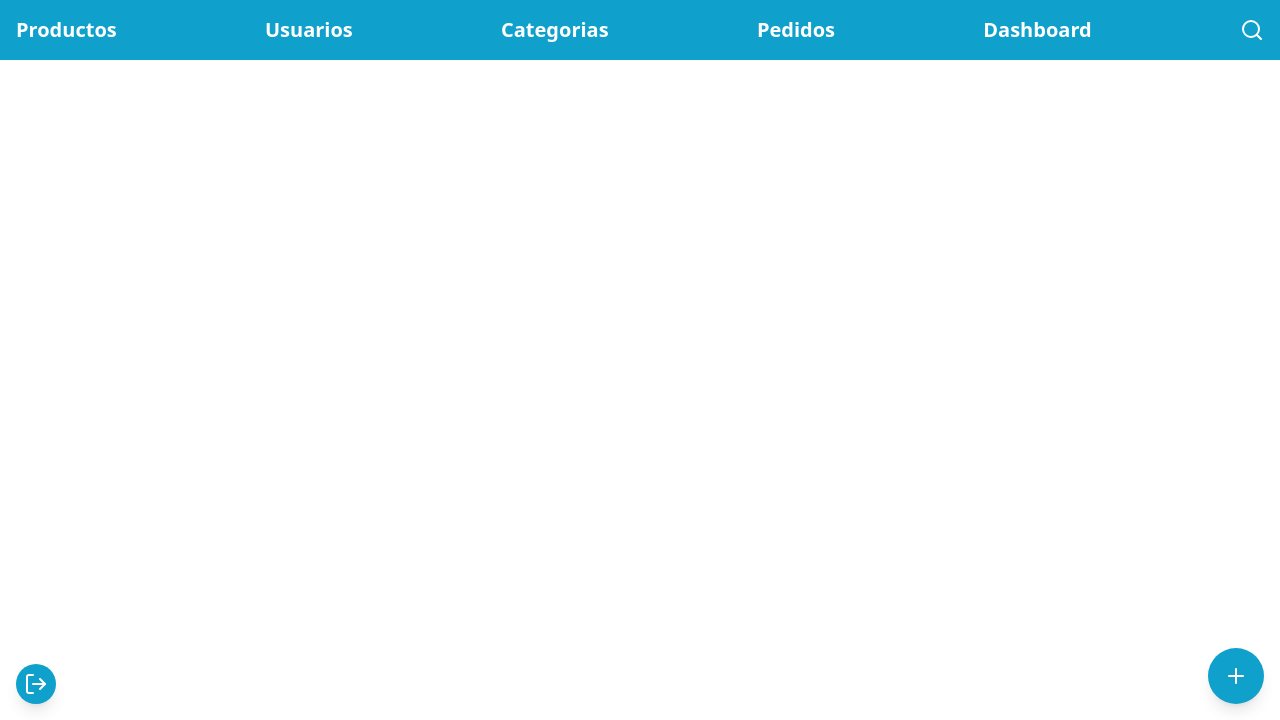
it: Navigation › abre la barra de búsqueda al hacer clic en el botón de búsqueda
Click the element named "abrir-busqueda": (1252, 30) [1240,18,1264,42]
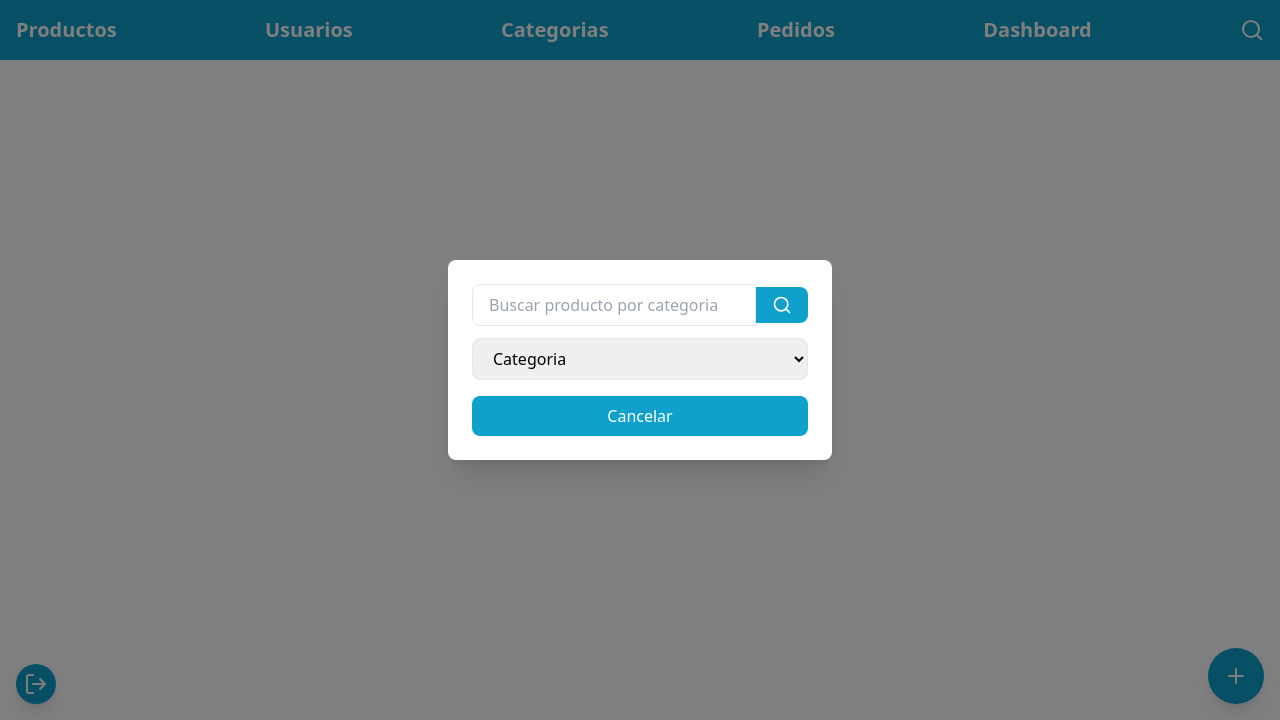
Result: the field with placeholder "Buscar producto por categoria" is shown at [472,284,756,326]
